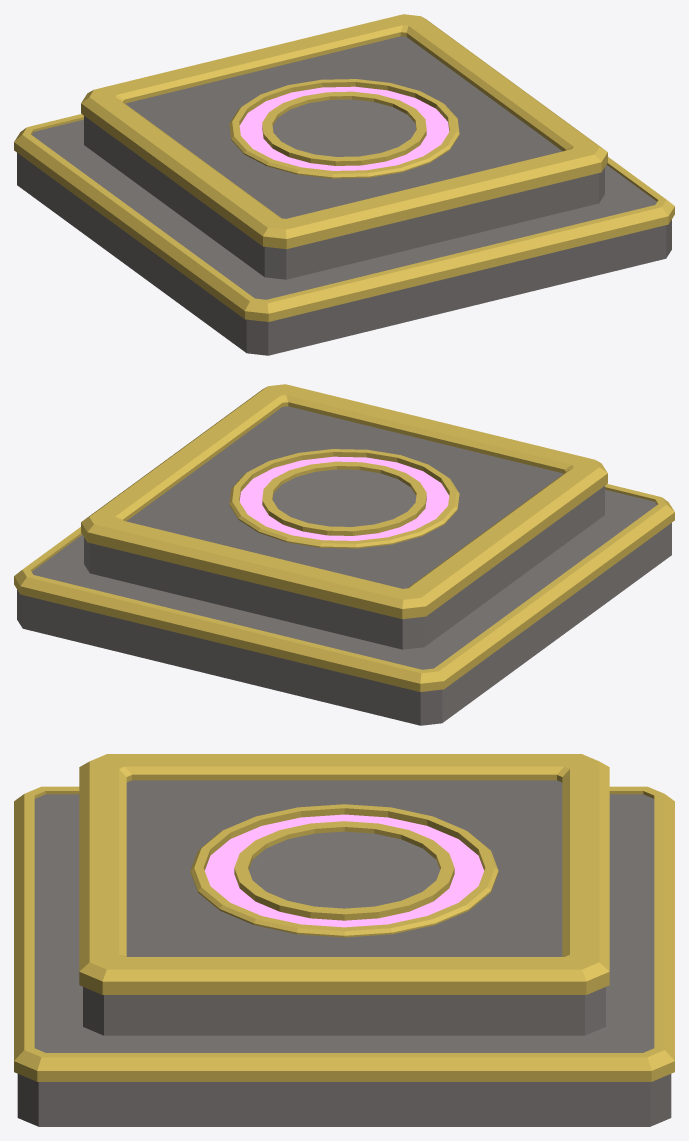
File: chest-dais-d2bc39.glb
The picture shows the model from 3 angles, top to bottom: view 1: azimuth 30°, elevation 25°; view 2: azimuth 150°, elevation 25°; view 3: azimuth 270°, elevation 25°; orthographic projection. The views are drawn at different scales.
Parts seen in each view (by area): view 1: dais-stone, dais-trim, rarity-inlay; view 2: dais-stone, dais-trim, rarity-inlay; view 3: dais-stone, dais-trim, rarity-inlay.
Boxes of the visible parts, x1,y1,x2,y2 form: dais-stone: (17,36,671,355); dais-trim: (14,14,674,321); rarity-inlay: (239,86,449,170); dais-stone: (17,406,671,725); dais-trim: (14,384,674,691); rarity-inlay: (239,456,449,540); dais-stone: (17,780,671,1126); dais-trim: (14,754,674,1081); rarity-inlay: (205,814,483,927).
Size of the model in its own units: 1.42 by 0.3 by 1.42.
